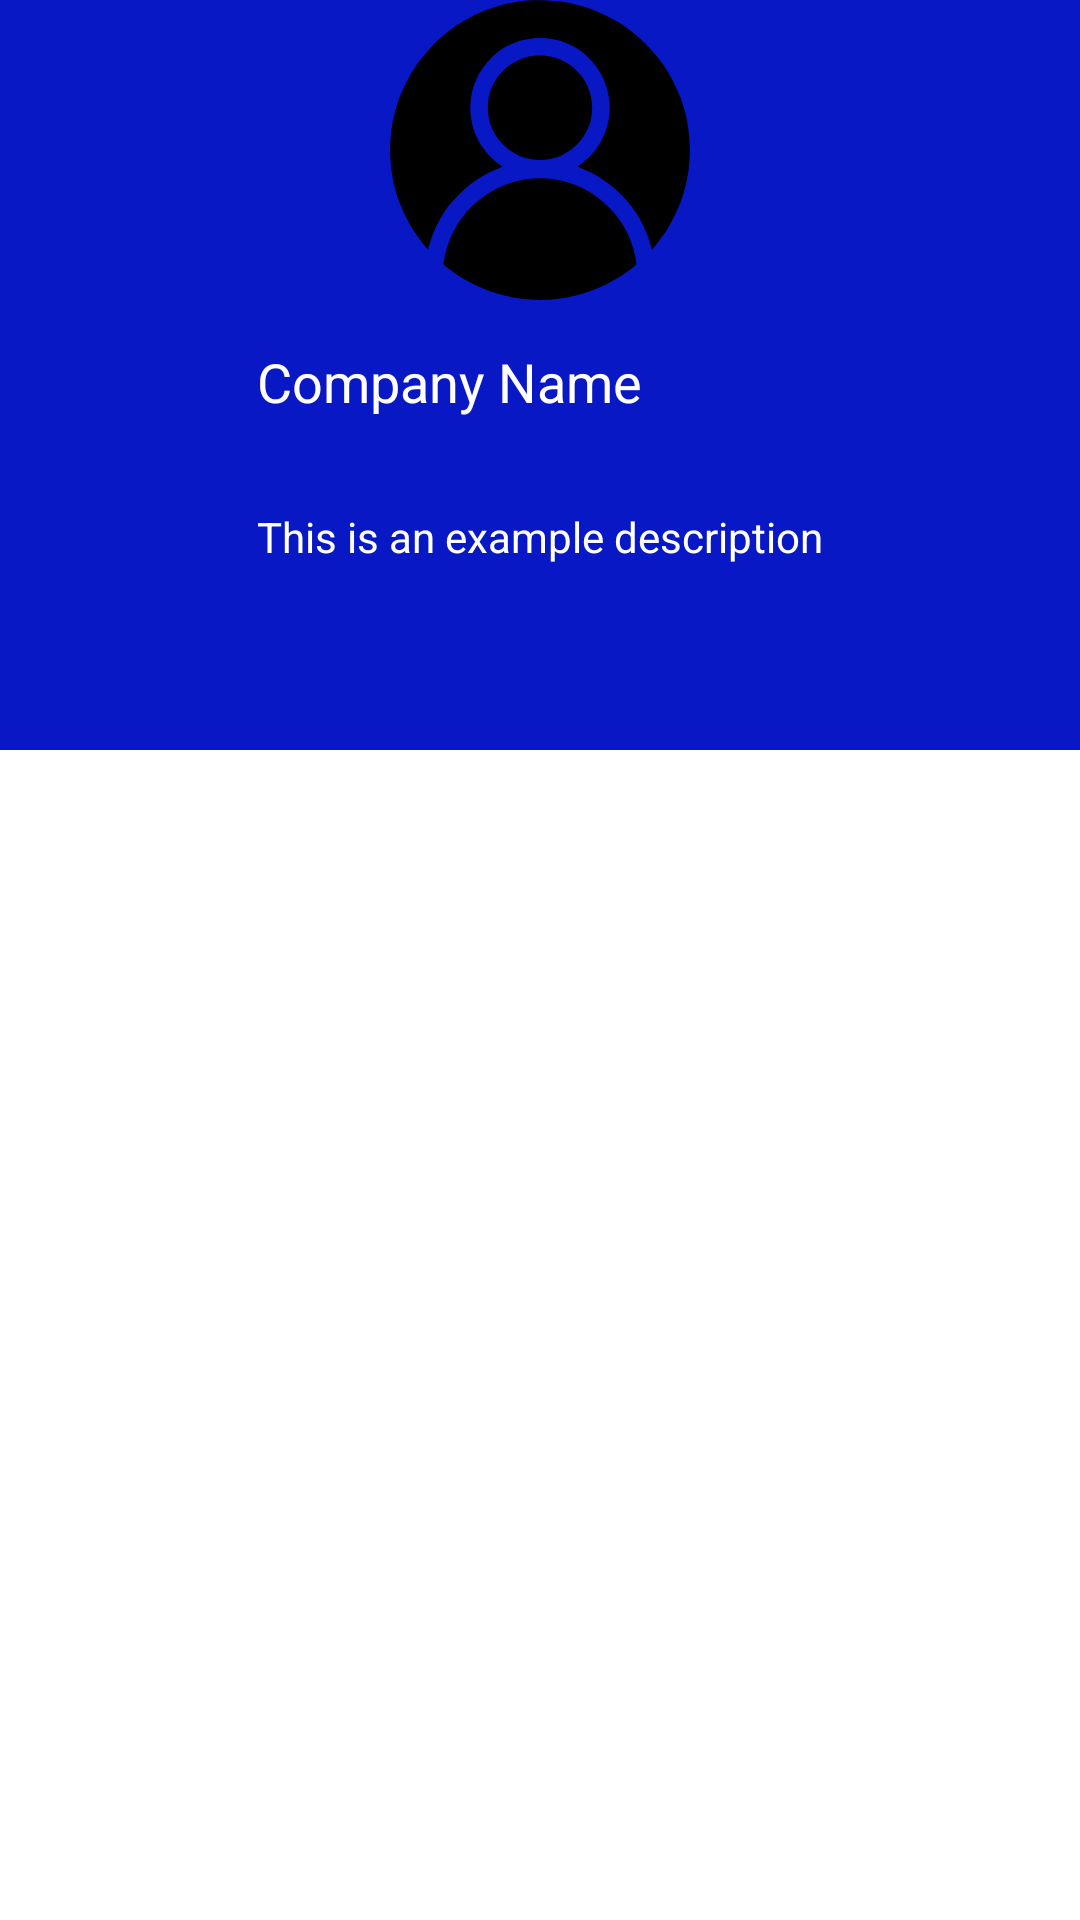

Icons on this 1080w x 1920h Android screen, each with its box as (x1, y1, x2, y2):
user: (390, 0, 690, 300)
